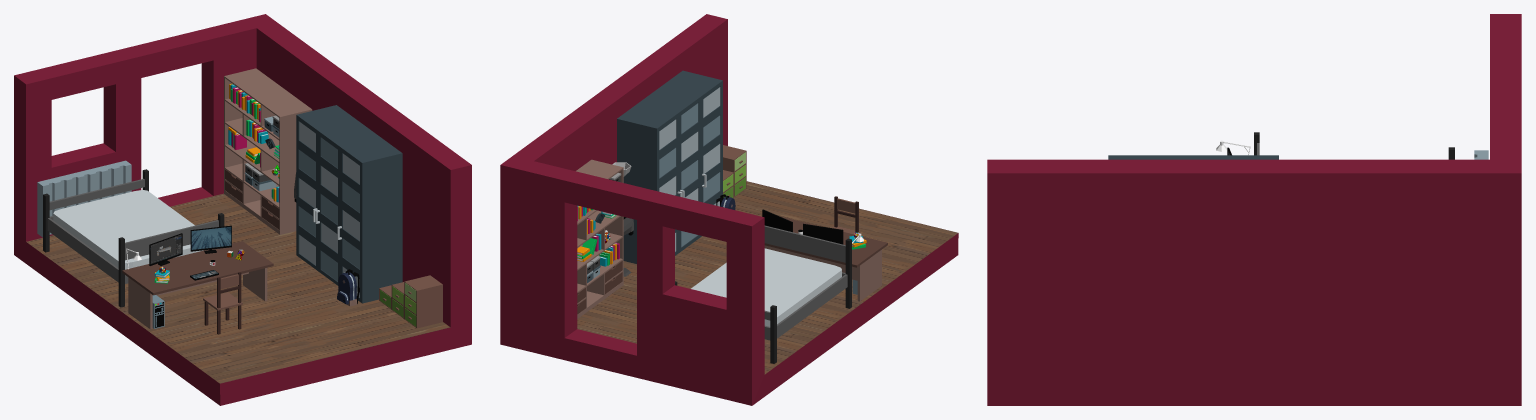
The model's file is my room.obj.
The picture shows the model from 3 angles, left to right: view 1: azimuth 30°, elevation 25°; view 2: azimuth 150°, elevation 25°; view 3: azimuth 270°, elevation 25°; orthographic projection. The views are drawn at different scales.
Parts seen in each view (by area): view 1: walls.002_Plane.004, floor_Plane.003, wardrobe_Cube.003, bookshelf_Cube.002, mattress_Cube.029, desk_Cube.006, bed_frame_Cube.001, radiator_Cube.035, cabinet_Cube.004, chair_Cube.010, monitor_2_Cube.028, monitor_1_Cube.007 (+1 smaller); view 2: walls.002_Plane.004, floor_Plane.003, wardrobe_Cube.003, mattress_Cube.029, bed_frame_Cube.001, bookshelf_Cube.002, desk_Cube.006, cabinet_Cube.004, chair_Cube.010, monitor_1_Cube.007; view 3: walls.002_Plane.004, wardrobe_Cube.003.
Boxes of the visible parts, x1=… form: walls.002_Plane.004: x1=14, y1=14, x2=471, y2=405; floor_Plane.003: x1=26, y1=193, x2=450, y2=383; wardrobe_Cube.003: x1=296, y1=105, x2=402, y2=303; bookshelf_Cube.002: x1=224, y1=68, x2=312, y2=234; mattress_Cube.029: x1=53, y1=190, x2=203, y2=269; desk_Cube.006: x1=122, y1=241, x2=273, y2=329; bed_frame_Cube.001: x1=43, y1=169, x2=224, y2=307; radiator_Cube.035: x1=37, y1=160, x2=131, y2=237; cabinet_Cube.004: x1=379, y1=275, x2=442, y2=328; chair_Cube.010: x1=203, y1=272, x2=242, y2=334; monitor_2_Cube.028: x1=190, y1=225, x2=231, y2=253; monitor_1_Cube.007: x1=149, y1=233, x2=182, y2=265; walls.002_Plane.004: x1=500, y1=14, x2=958, y2=405; floor_Plane.003: x1=577, y1=181, x2=957, y2=374; wardrobe_Cube.003: x1=617, y1=70, x2=722, y2=263; mattress_Cube.029: x1=691, y1=248, x2=841, y2=326; bed_frame_Cube.001: x1=675, y1=225, x2=851, y2=363; bookshelf_Cube.002: x1=576, y1=159, x2=623, y2=318; desk_Cube.006: x1=764, y1=216, x2=887, y2=301; cabinet_Cube.004: x1=723, y1=145, x2=746, y2=197; chair_Cube.010: x1=832, y1=196, x2=860, y2=234; monitor_1_Cube.007: x1=803, y1=223, x2=843, y2=244; walls.002_Plane.004: x1=987, y1=14, x2=1521, y2=405; wardrobe_Cube.003: x1=1108, y1=155, x2=1278, y2=159.
Size of the model in its own units: 9.73 by 6.63 by 13.79.
39 materials, 39 textured.
